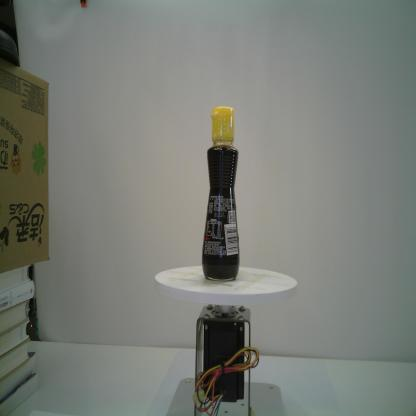Seasoner: (201, 104, 242, 282)
